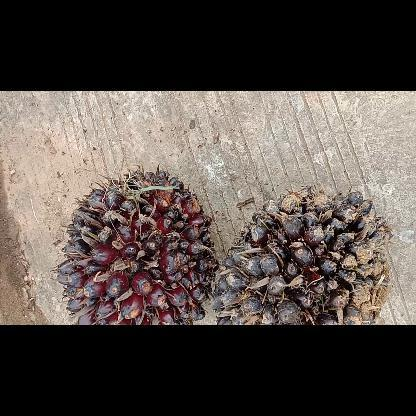TBS mentah: (52, 166, 220, 324), (210, 184, 395, 324)
